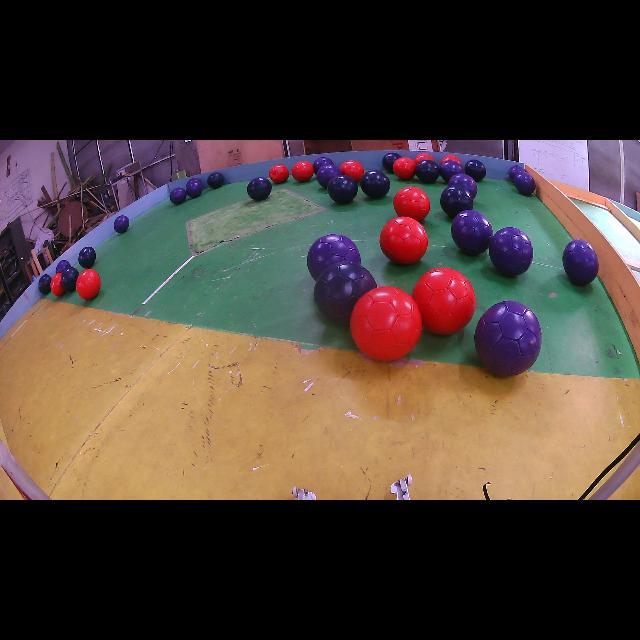B: (314, 261, 376, 322), (440, 185, 474, 218), (360, 170, 390, 199), (328, 175, 358, 204), (415, 159, 440, 184), (248, 178, 271, 200), (464, 160, 486, 181), (61, 266, 79, 291), (79, 246, 96, 269), (382, 152, 401, 172), (208, 172, 224, 189), (39, 274, 51, 294)
P: (475, 300, 542, 376), (308, 234, 360, 279), (489, 228, 534, 276), (451, 210, 492, 255), (562, 239, 599, 286), (449, 174, 478, 199), (316, 165, 341, 189), (514, 171, 536, 196), (440, 160, 464, 182), (312, 158, 334, 174), (114, 215, 130, 233), (508, 165, 525, 181), (170, 188, 186, 205), (186, 180, 201, 198), (56, 260, 71, 273), (187, 178, 200, 183)
R: (350, 286, 422, 360), (412, 268, 476, 335), (380, 216, 428, 264), (394, 186, 430, 221), (76, 269, 101, 300), (392, 158, 416, 180), (340, 160, 364, 181), (291, 161, 314, 181), (269, 165, 289, 184), (50, 272, 65, 296), (414, 152, 434, 165), (441, 155, 462, 165)
